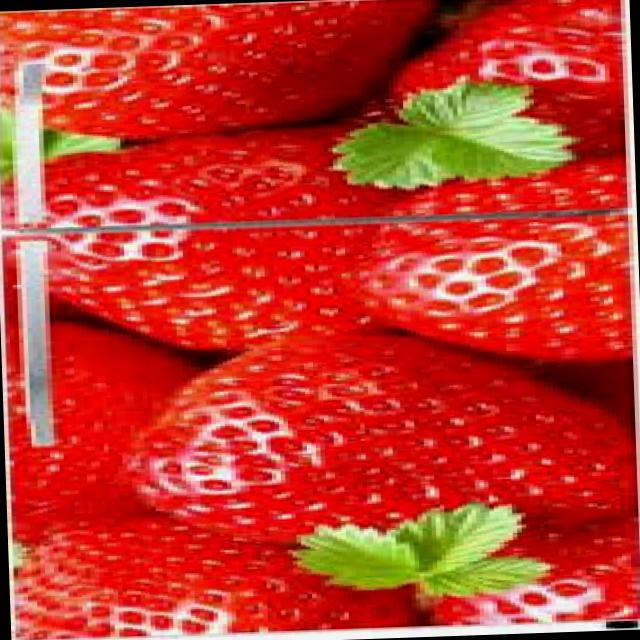tofu: (109, 321, 640, 564)
